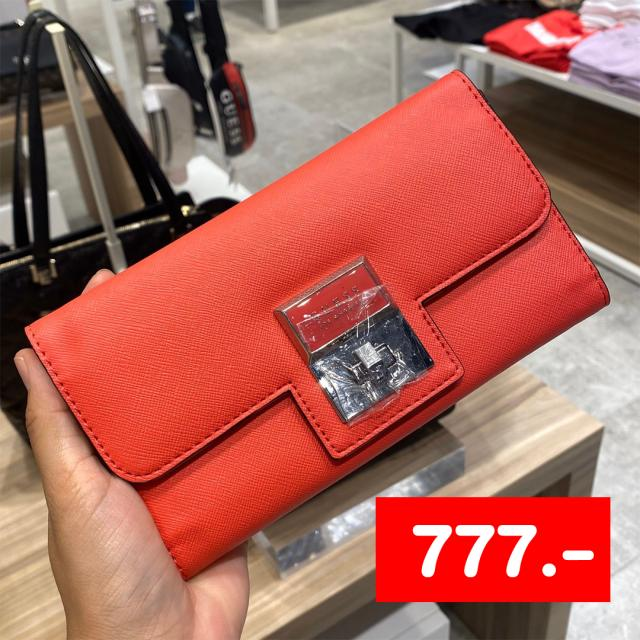bag: (0, 59, 640, 589)
